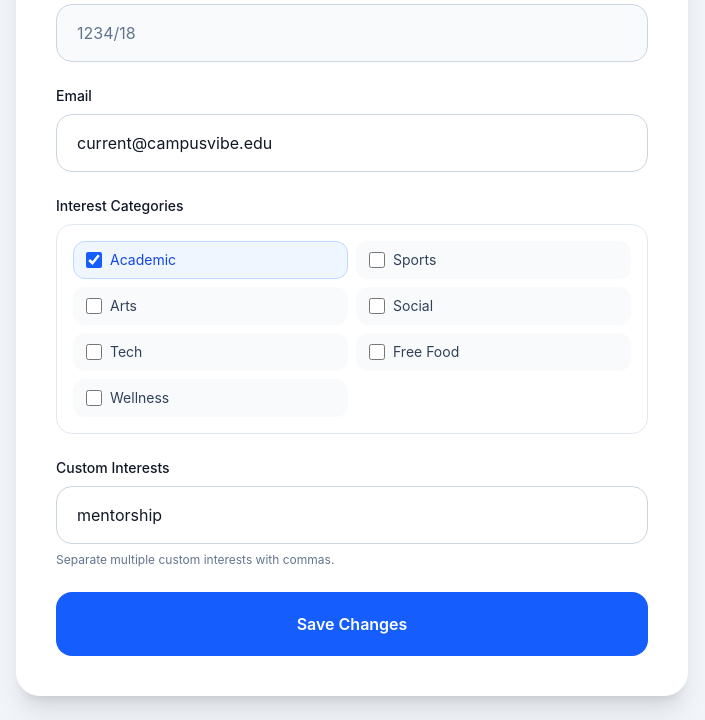
ProfileSettings › shows an error message when profile update fails
The width and height of the screenshot is (705, 720).
(page scrolled)
Click the button "Save Changes" at (352, 624), box [56,592,648,656]
(page scrolled)
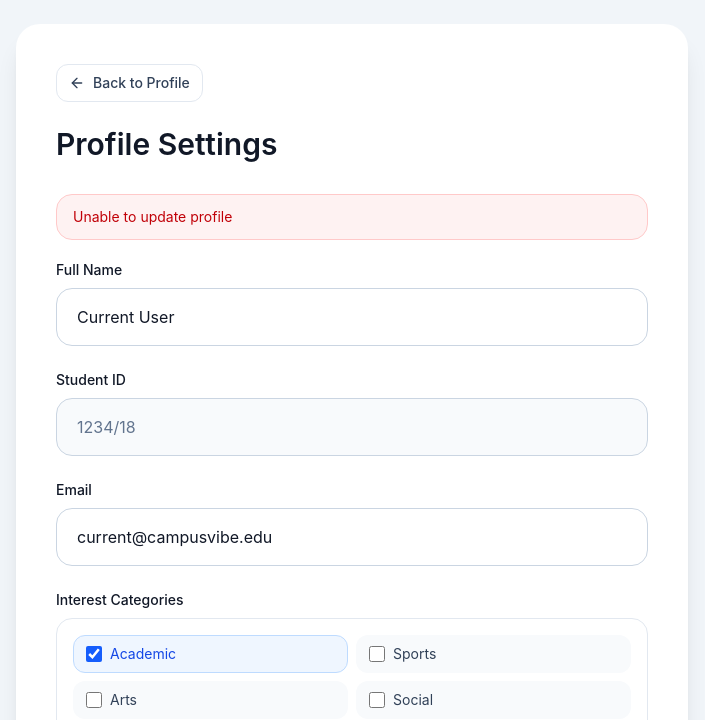
Expected: the text "Unable to update profile" is shown, [56,194,648,240]
